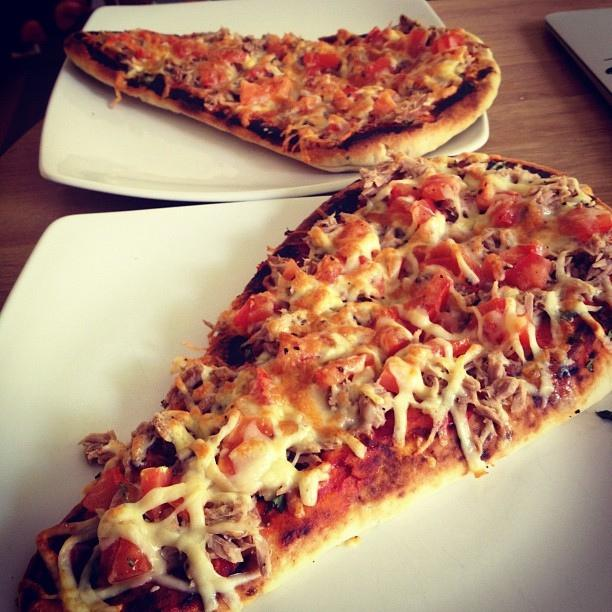tomato: (358, 403, 474, 442), (96, 538, 154, 588), (364, 183, 423, 228), (215, 415, 257, 478), (404, 271, 451, 322), (315, 352, 376, 388), (82, 467, 130, 512), (558, 205, 612, 242), (505, 252, 552, 290), (370, 325, 410, 366), (419, 242, 460, 276), (232, 296, 272, 330), (420, 172, 461, 202), (490, 190, 522, 228), (242, 367, 272, 405), (140, 466, 172, 499), (333, 220, 370, 248), (168, 475, 190, 522), (314, 254, 344, 284), (522, 208, 552, 238), (364, 57, 394, 86), (558, 314, 580, 352), (304, 52, 338, 76), (482, 316, 509, 346), (431, 32, 466, 54), (499, 246, 537, 266), (482, 252, 506, 283), (406, 26, 427, 59), (409, 198, 436, 223), (240, 79, 264, 106), (379, 366, 400, 394), (208, 48, 247, 63), (319, 444, 346, 465), (336, 473, 362, 494), (445, 336, 470, 357), (476, 298, 505, 316), (374, 92, 398, 113), (183, 40, 208, 58), (266, 41, 288, 61), (282, 259, 300, 281), (100, 31, 118, 50), (520, 330, 532, 357), (334, 96, 355, 109), (371, 32, 385, 49), (173, 42, 187, 58), (135, 48, 152, 61), (212, 70, 227, 83), (150, 32, 162, 48), (82, 34, 98, 45), (199, 69, 210, 85), (342, 85, 358, 95), (326, 124, 341, 134), (138, 30, 146, 39)
